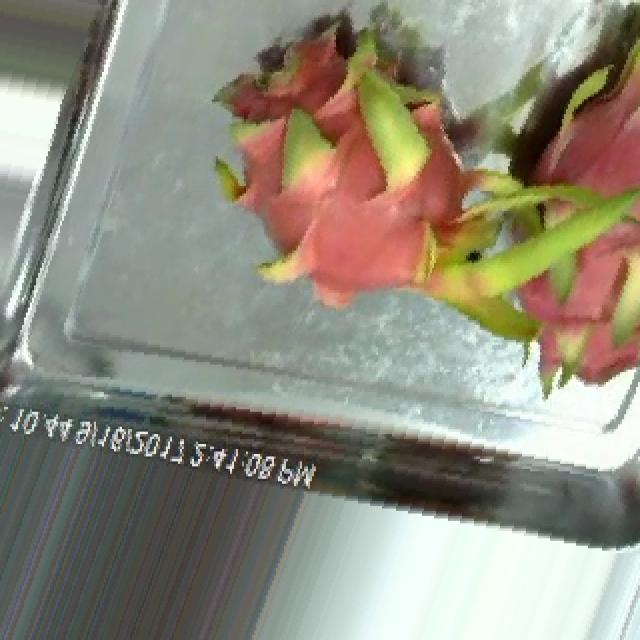Fruit: (0, 0, 130, 96)
